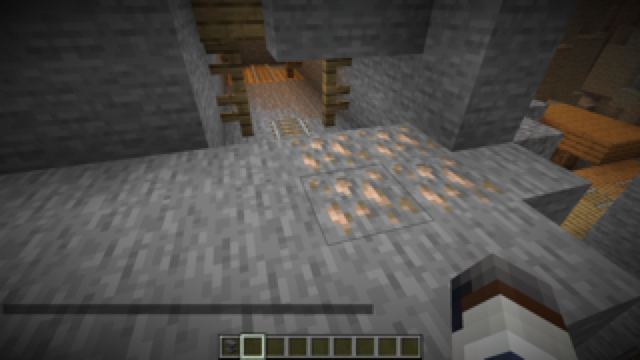iron: (290, 121, 511, 243)
